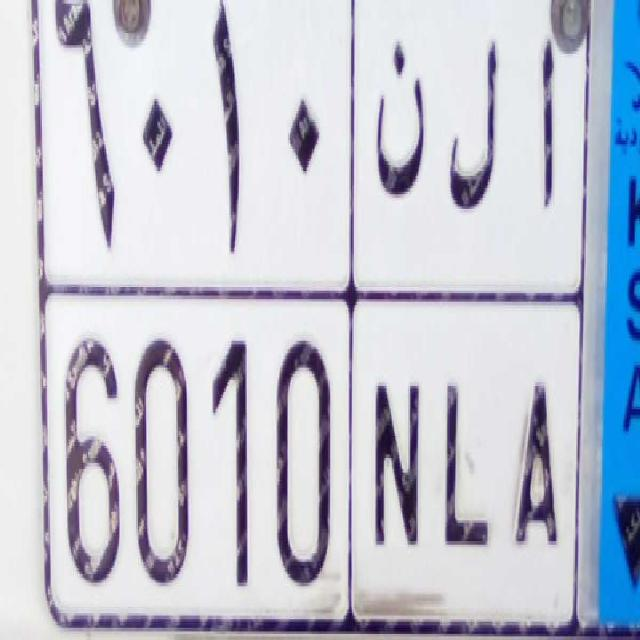license_plate: (42, 283, 580, 640)
